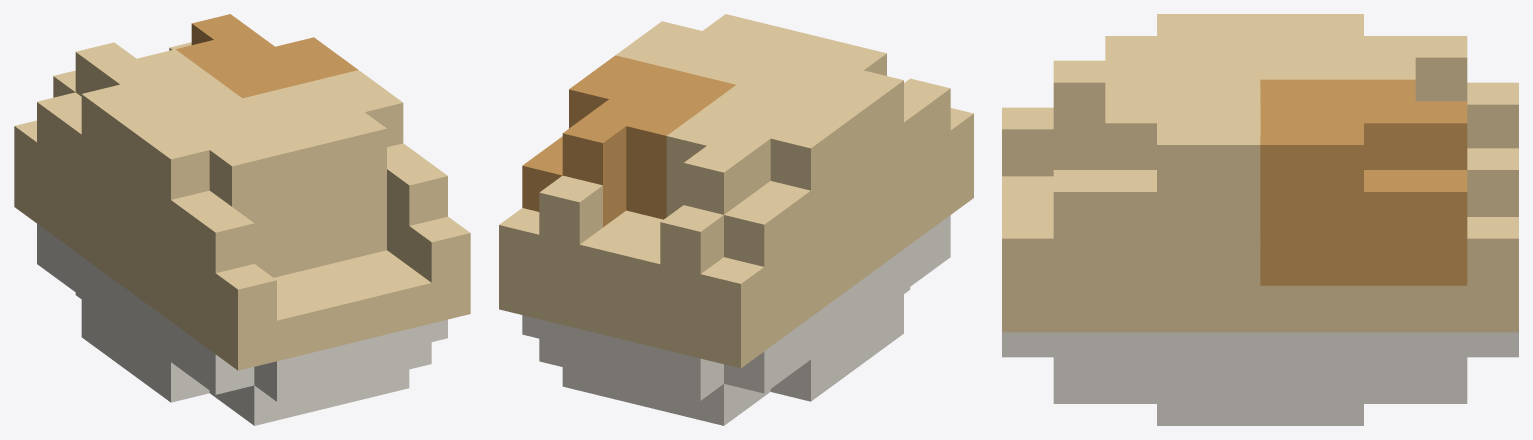
The model's file is puppy__body.glb.
The picture shows the model from 3 angles, left to right: view 1: azimuth 30°, elevation 25°; view 2: azimuth 150°, elevation 25°; view 3: azimuth 270°, elevation 25°; orthographic projection. The views are drawn at different scales.
Visible parts, largest first — view 1: puppy__body; view 2: puppy__body; view 3: puppy__body.
Part boxes in pixels (box(x1,y1,x2,y2)): puppy__body: box(14, 14, 470, 425); puppy__body: box(499, 14, 973, 425); puppy__body: box(1002, 14, 1518, 425).
Size of the model in its own units: 0.6 by 0.6 by 1.
1 material, 1 textured.
